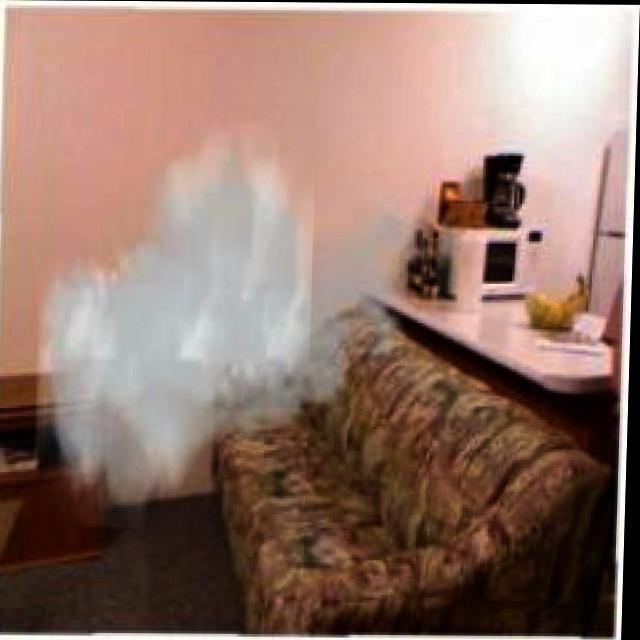Smoke: (30, 110, 426, 508)
